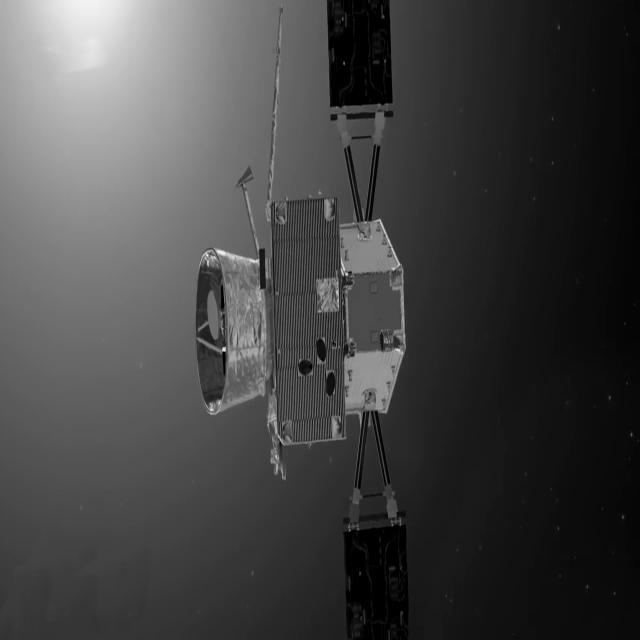satellite: (173, 0, 431, 640)
